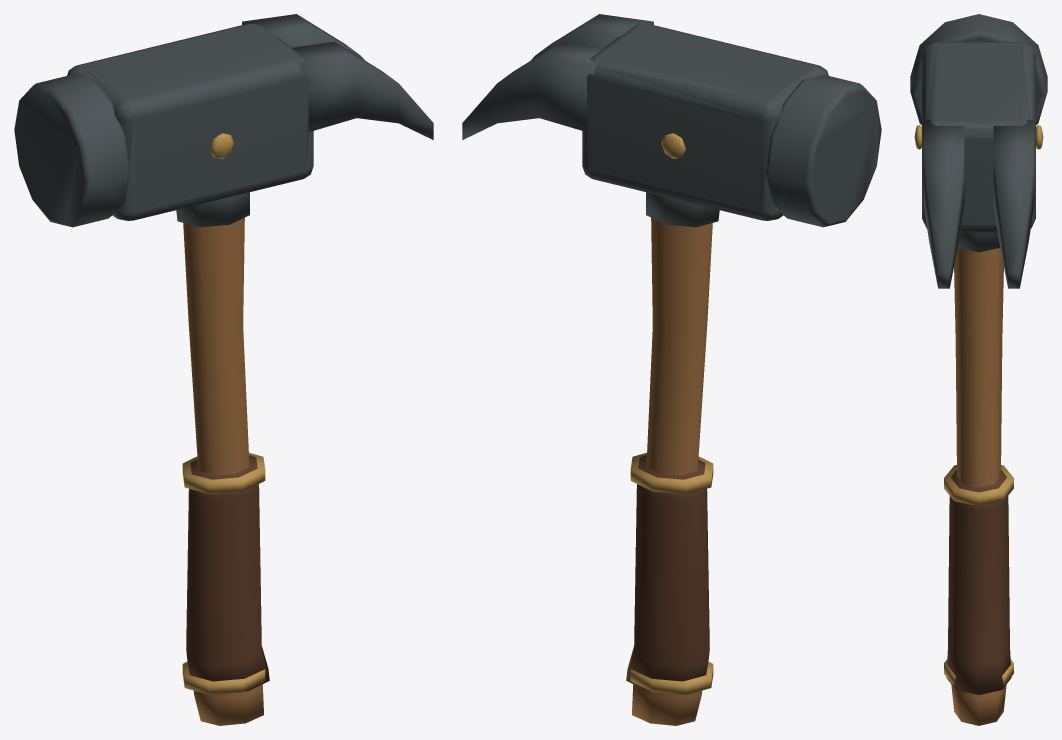
Rendered from BuildHammer.fbx.
3 views of the same model, side by side, from view 1: azimuth 30°, elevation 25°; view 2: azimuth 150°, elevation 25°; view 3: azimuth 270°, elevation 25° (orthographic). The views are drawn at different scales.
Parts seen in each view (by area): view 1: BuildHammer_Mesh; view 2: BuildHammer_Mesh; view 3: BuildHammer_Mesh.
Boxes of the visible parts, left/top/right/bottom form: BuildHammer_Mesh: left=14, top=14, right=433, bottom=725; BuildHammer_Mesh: left=462, top=14, right=881, bottom=725; BuildHammer_Mesh: left=910, top=14, right=1047, bottom=725.
Size of the model in its own units: 0.265 by 0.467 by 0.094.
